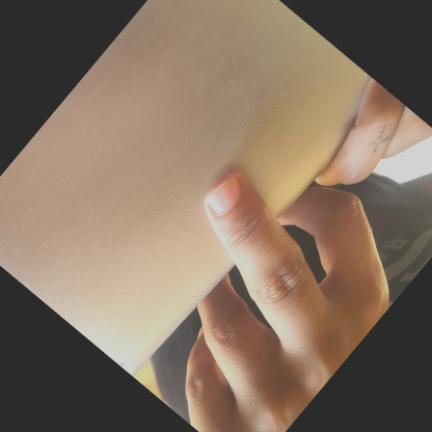Nail: (207, 177, 240, 214)
